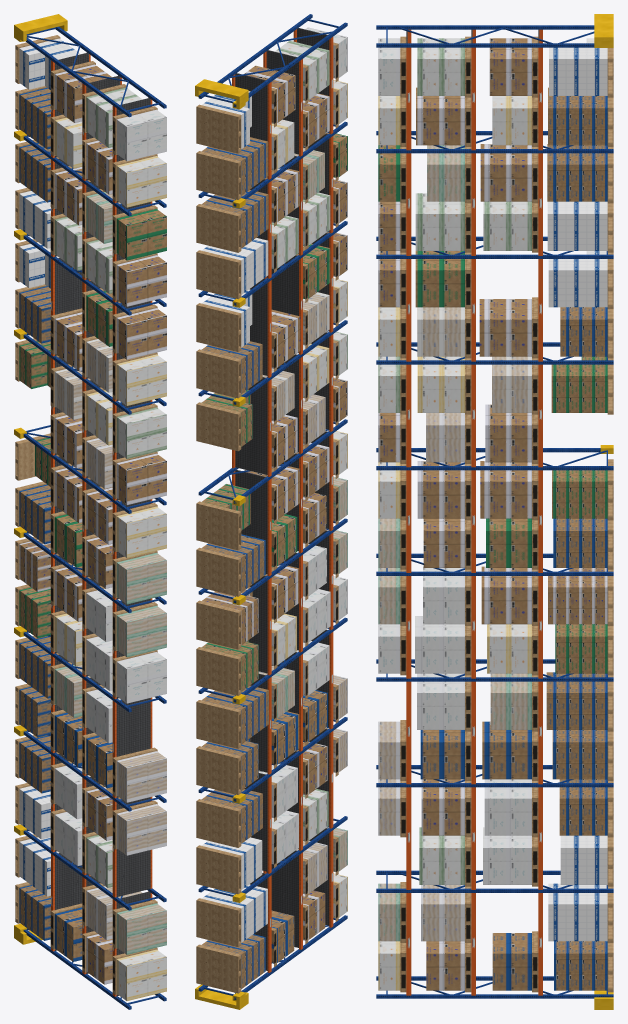
Rendered from racks_pe_s.gltf.
3 views of the same model, side by side, from view 1: azimuth 30°, elevation 25°; view 2: azimuth 150°, elevation 25°; view 3: azimuth 270°, elevation 25° (orthographic). The views are drawn at different scales.
Visible parts, largest first — view 1: racks_pe_s; view 2: racks_pe_s; view 3: racks_pe_s.
Boxes of the visible parts, left/top/right/bottom form: racks_pe_s: left=14, top=14, right=166, bottom=1009; racks_pe_s: left=195, top=14, right=347, bottom=1009; racks_pe_s: left=376, top=14, right=613, bottom=1009.
Size of the model in its own units: 1.27 by 24.86 by 5.5.
18 materials, 18 textured.
